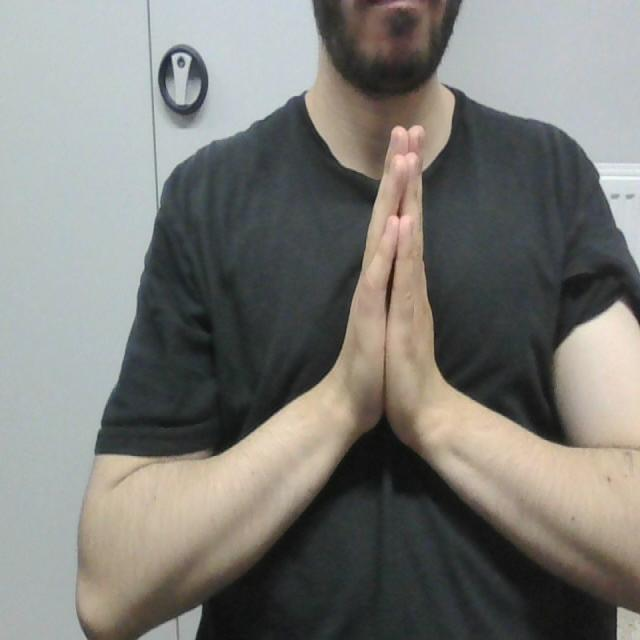Ozur-Dilemek: (342, 116, 452, 472)
